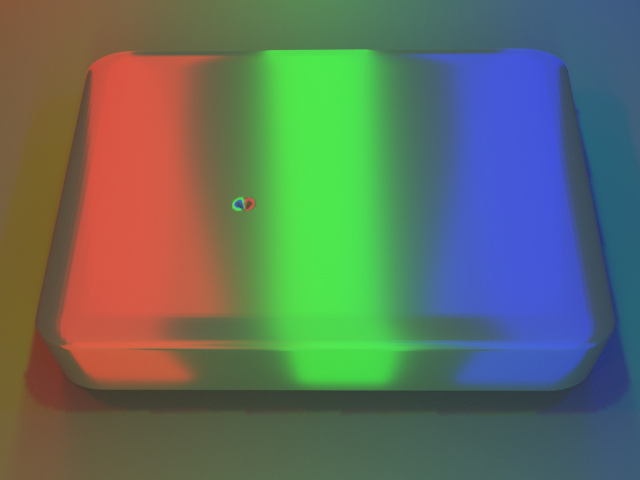dent: (214, 183, 257, 223)
